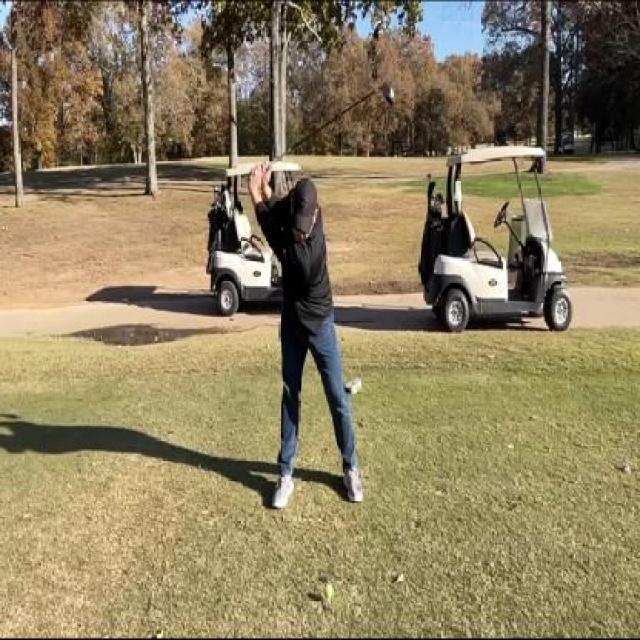club head: (375, 78, 396, 105)
